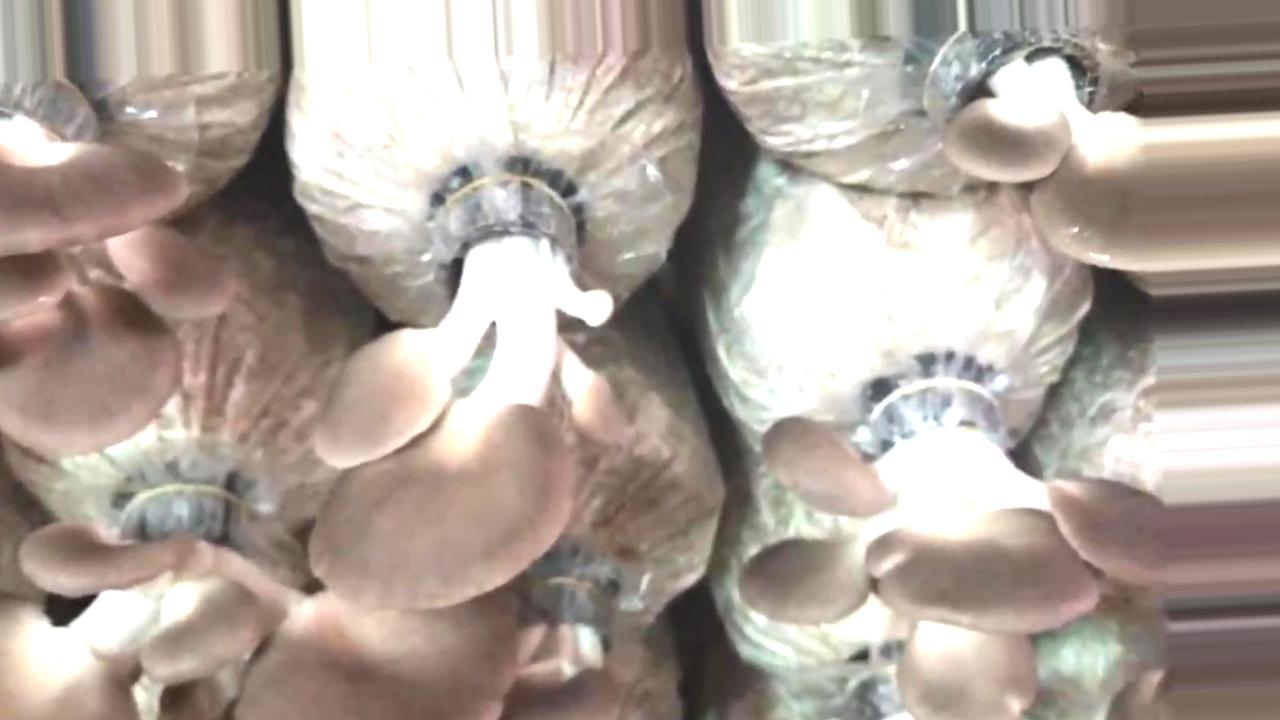nam: (739, 381, 1266, 720), (310, 175, 636, 610), (1, 478, 520, 718), (1, 74, 242, 460), (932, 1, 1276, 271), (502, 550, 628, 720)
